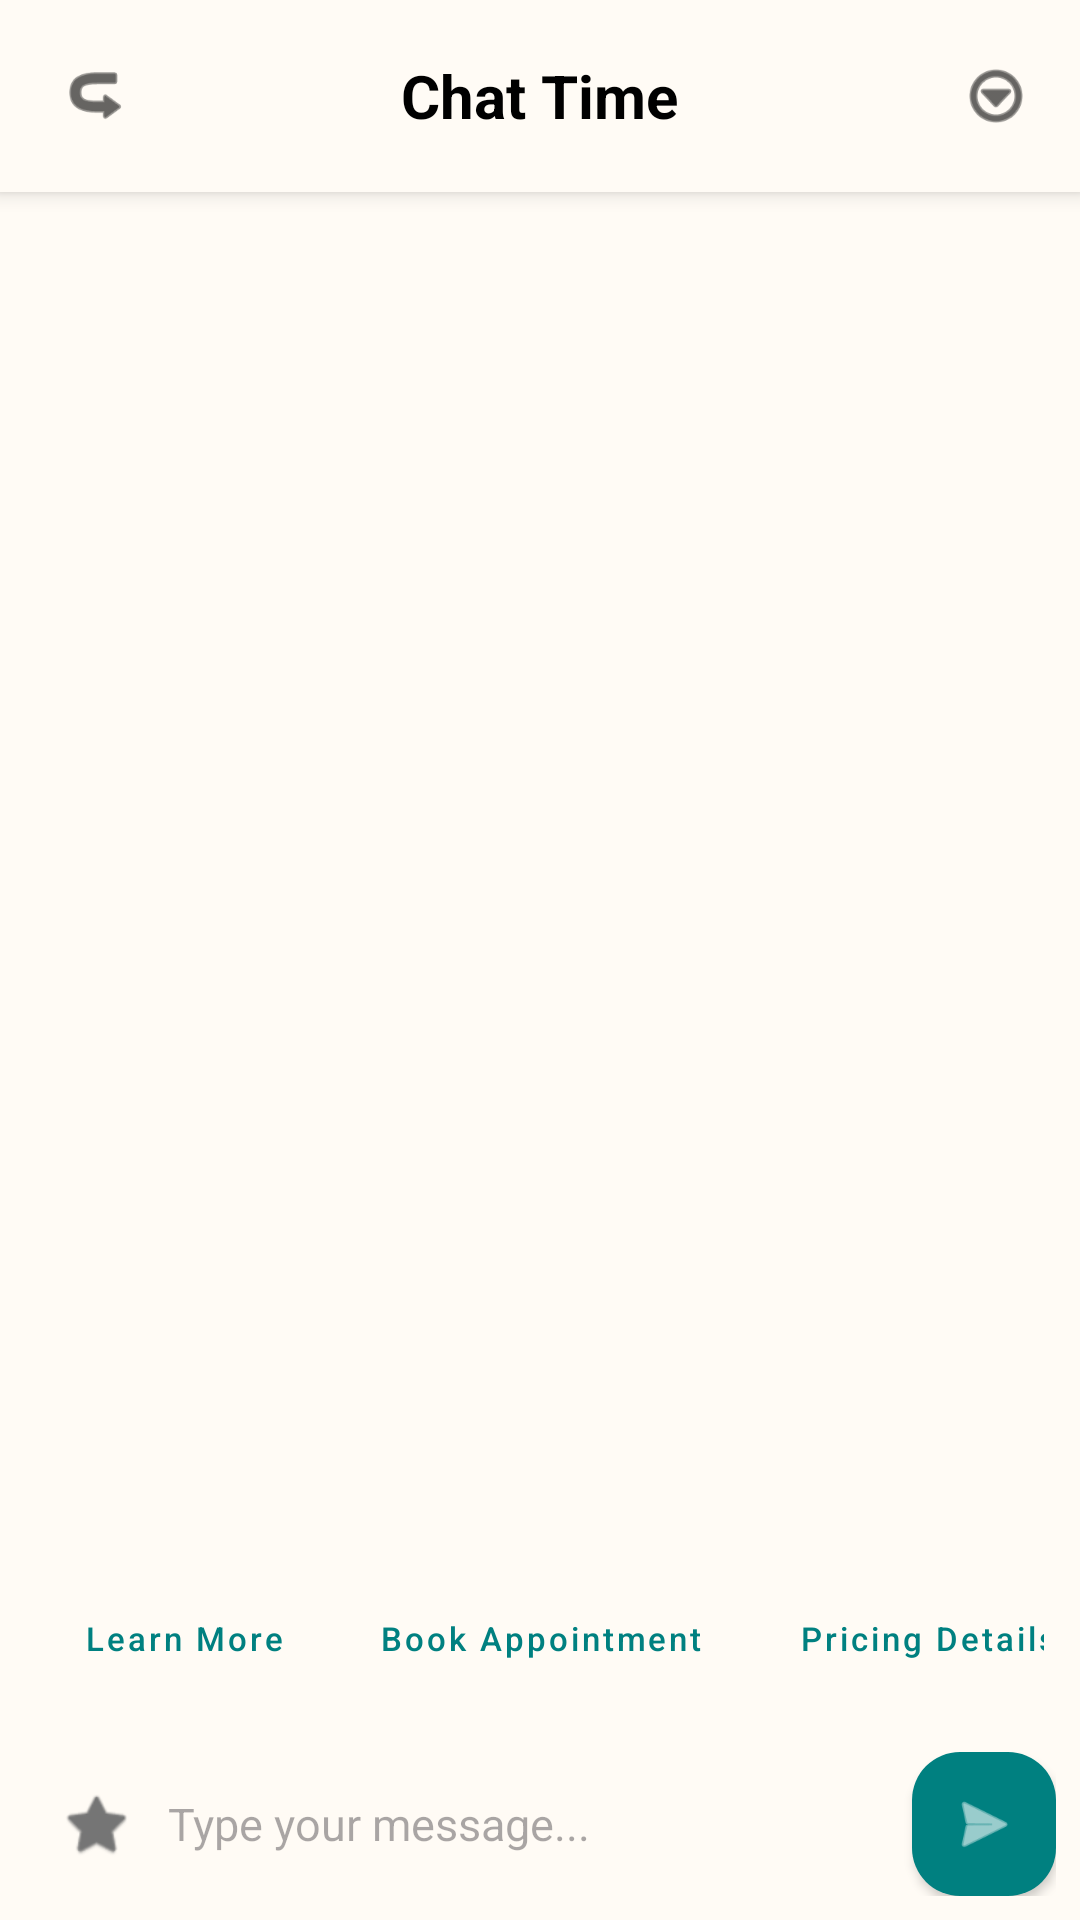

Locate icon controls on the screen. Image size 1080px x 1920px, boxes as (x1, y1, x2, y2).
more: (969, 69, 1023, 123)
send: (912, 1752, 1056, 1896)
star on: (67, 1796, 126, 1853)
